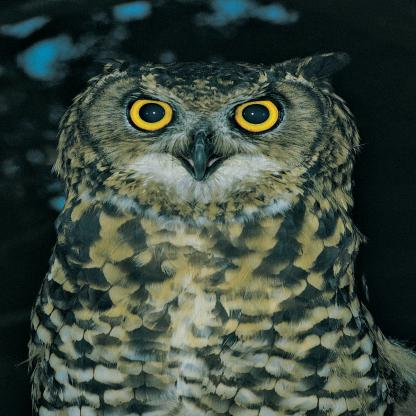owl: (52, 22, 415, 415)
